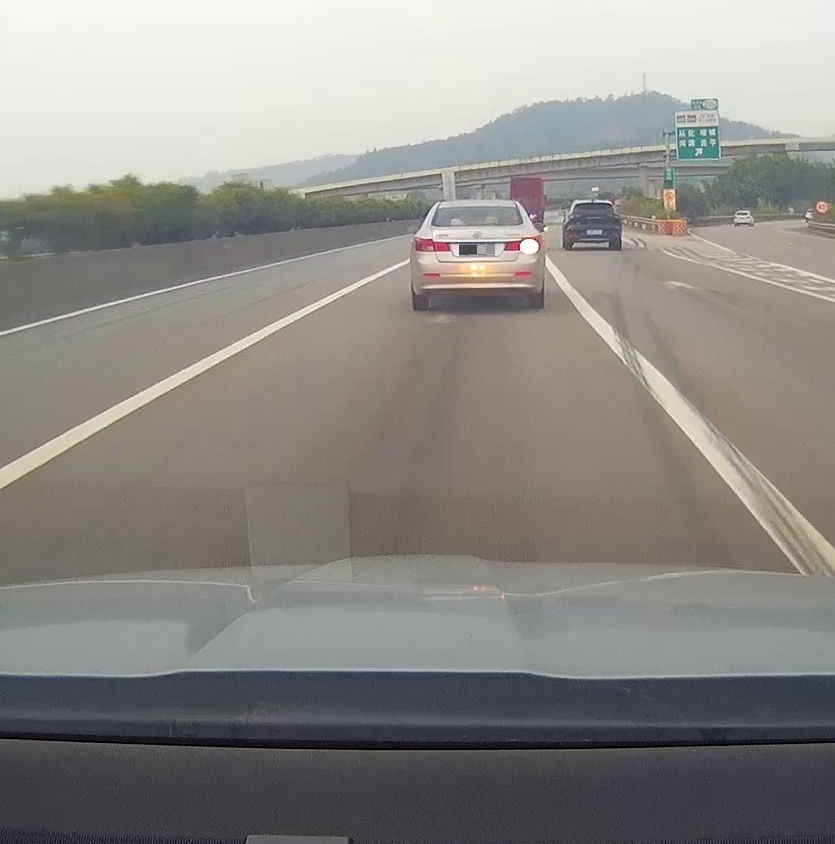L_light: (415, 237, 449, 252), (568, 214, 579, 221)
R_light: (504, 236, 542, 254), (608, 214, 620, 220)
T_light: (467, 219, 486, 225), (588, 202, 599, 206)
day-no: (565, 199, 622, 249)
day-right: (410, 199, 545, 310)
plate_1: (459, 245, 495, 255)
